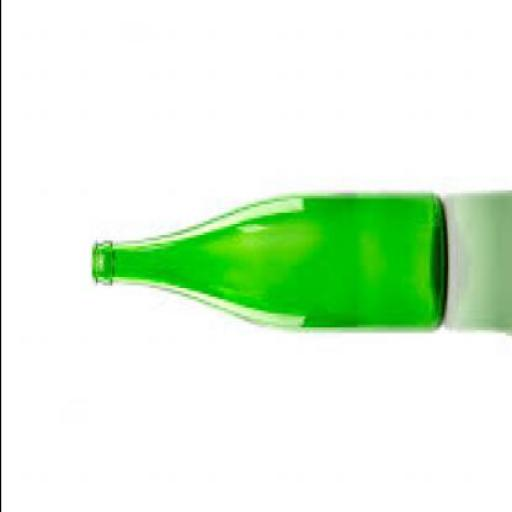glass: (88, 196, 446, 336)
